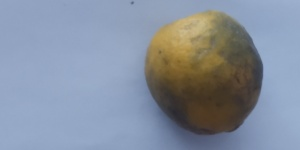BAD: (142, 10, 264, 138)
